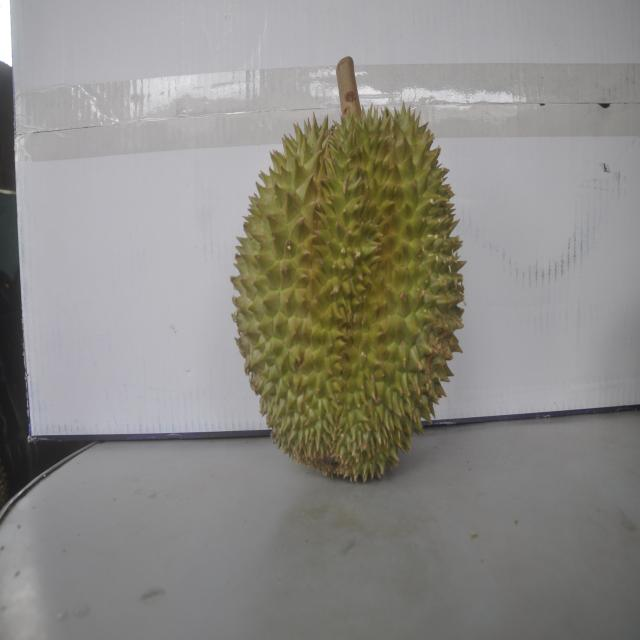mature: (231, 84, 453, 484)
